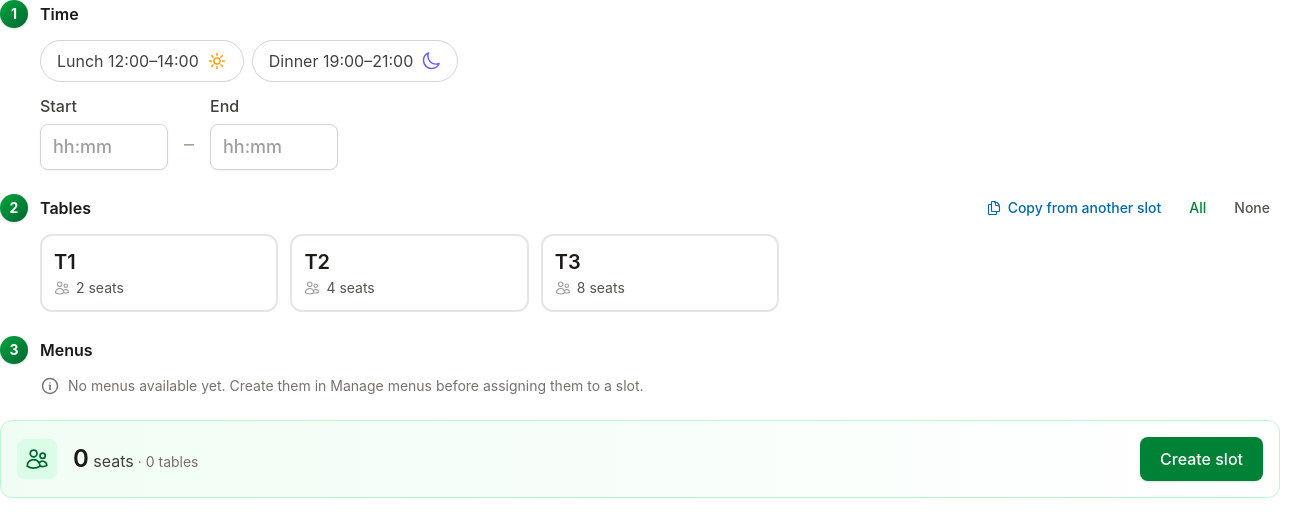
Test case: CreateSlotForm › seats › removes the seats when a table is clicked again
Click the button "T1 2 seats" at (159, 273), box top-left (40, 234), bottom-right (278, 312)
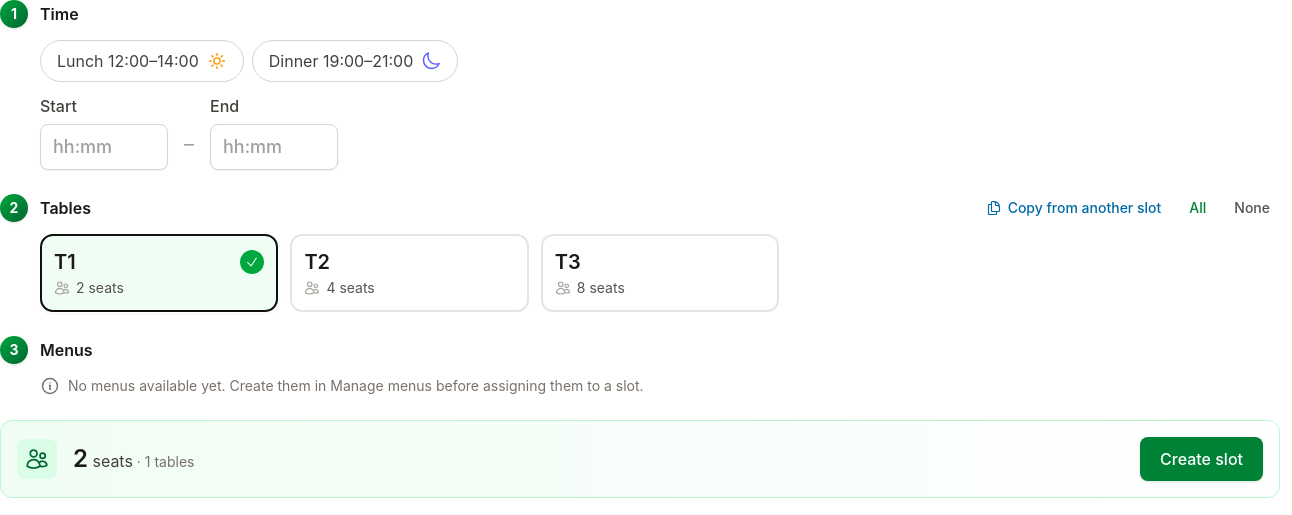
Click the button "T2 4 seats" at (410, 273), box top-left (290, 234), bottom-right (529, 312)
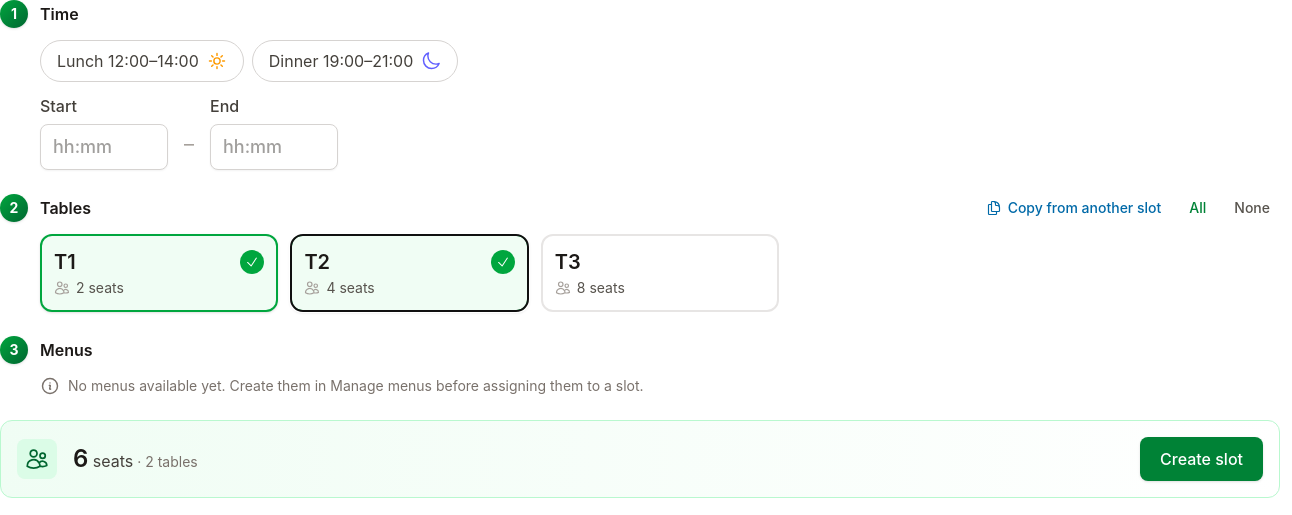
Click the button "T1 2 seats" at (159, 273), box top-left (40, 234), bottom-right (278, 312)
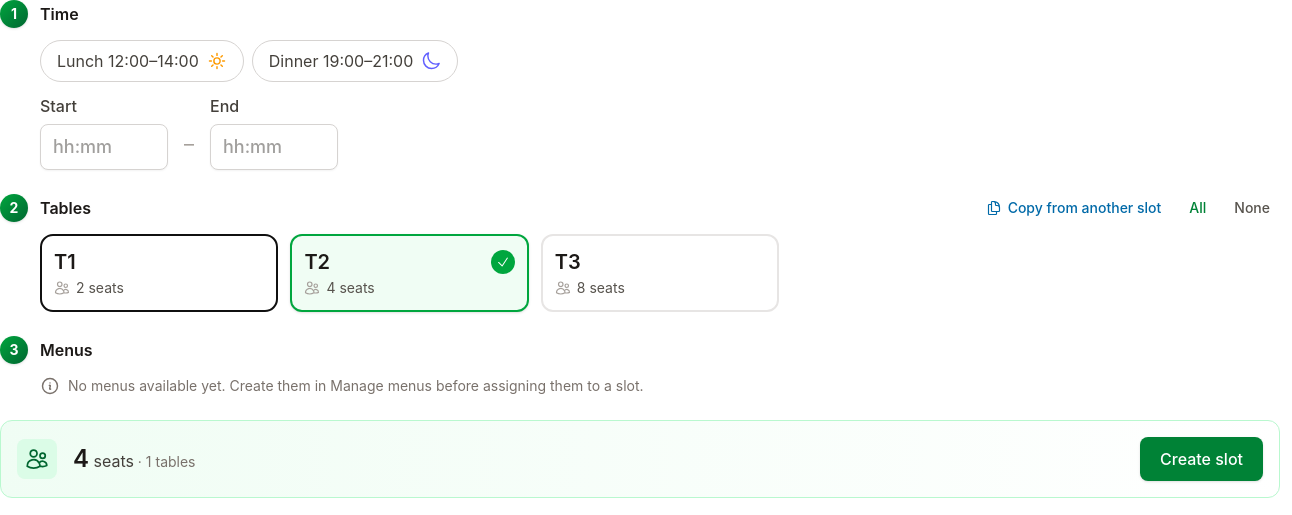
Expected: the text "4 seats · 1 tables" is shown, top-left (73, 443), bottom-right (196, 475)
